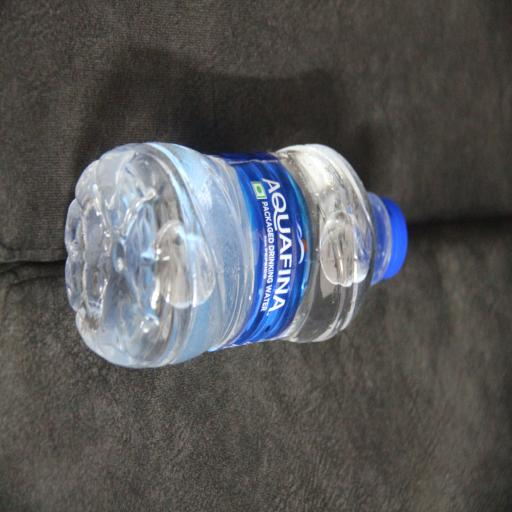Aquafina: (95, 157, 243, 512)
